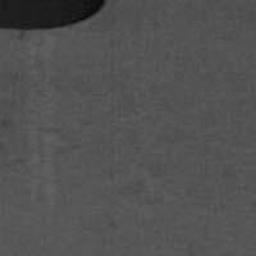Punching: (0, 0, 106, 30)
